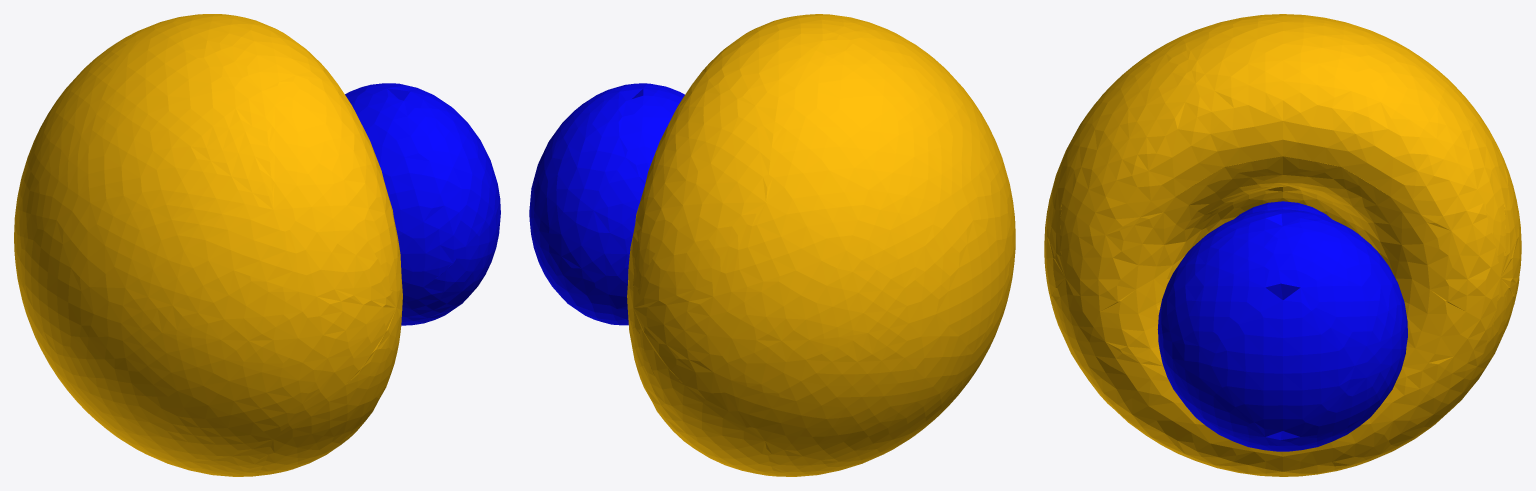
3 views of the same model, side by side, from view 1: azimuth 30°, elevation 25°; view 2: azimuth 150°, elevation 25°; view 3: azimuth 270°, elevation 25° (orthographic). The views are drawn at different scales.
Size of the model in its own units: 21.56 by 20.06 by 20.06.
